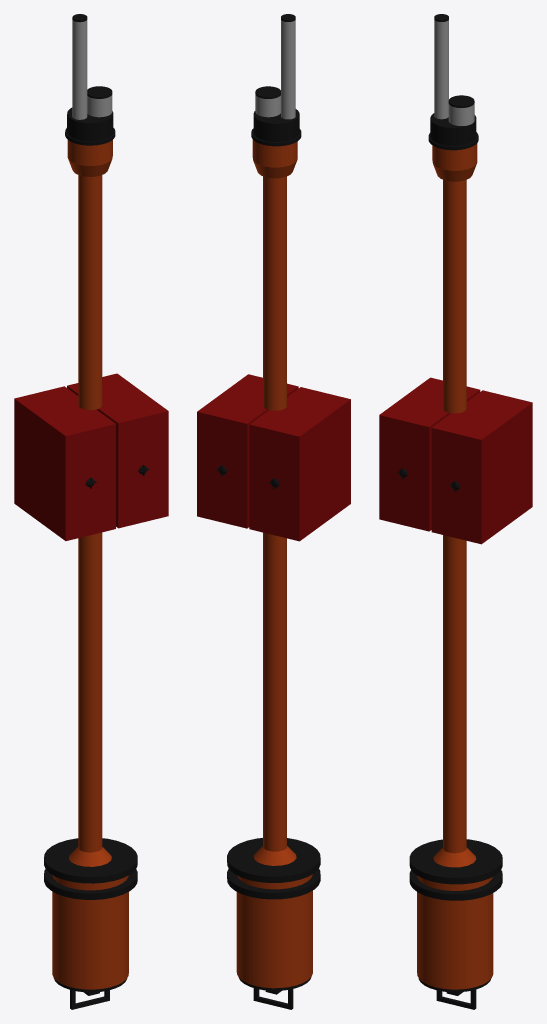
The model's file is fubiaomoxing.FBX.
The picture shows the model from 3 angles, left to right: view 1: azimuth 30°, elevation 25°; view 2: azimuth 150°, elevation 25°; view 3: azimuth 330°, elevation 25°; orthographic projection.
Visible parts, largest first — view 1: Line014, Line012, Circle002, Line013, 网格005, 网格007, 网格006, 网格008; view 2: Line014, Line012, Circle002, Line013, 网格005, 网格007, 网格006, 网格008; view 3: Line014, Line012, Circle002, Line013, 网格005, 网格007, 网格006, 网格008.
Boxes of the visible parts, x1,y1,x2,y2 form: Line014: [14, 373, 168, 540]; Line012: [69, 532, 111, 866]; Circle002: [52, 875, 128, 989]; Line013: [67, 140, 112, 410]; 网格005: [44, 838, 137, 992]; 网格007: [72, 19, 112, 119]; 网格006: [65, 107, 115, 145]; 网格008: [72, 14, 112, 98]; Line014: [197, 374, 350, 541]; Line012: [253, 532, 296, 865]; Circle002: [236, 874, 312, 988]; Line013: [252, 139, 297, 410]; 网格005: [227, 838, 320, 990]; 网格007: [255, 20, 295, 119]; 网格006: [251, 109, 301, 146]; 网格008: [255, 14, 295, 98]; Line014: [379, 377, 532, 544]; Line012: [433, 535, 476, 867]; Circle002: [417, 876, 493, 989]; Line013: [432, 143, 477, 413]; 网格005: [409, 839, 502, 992]; 网格007: [434, 20, 474, 125]; 网格006: [428, 113, 478, 150]; 网格008: [434, 14, 474, 107].
Bounding box in the file's own units: 0.035 × 0.3222 × 0.0321.
